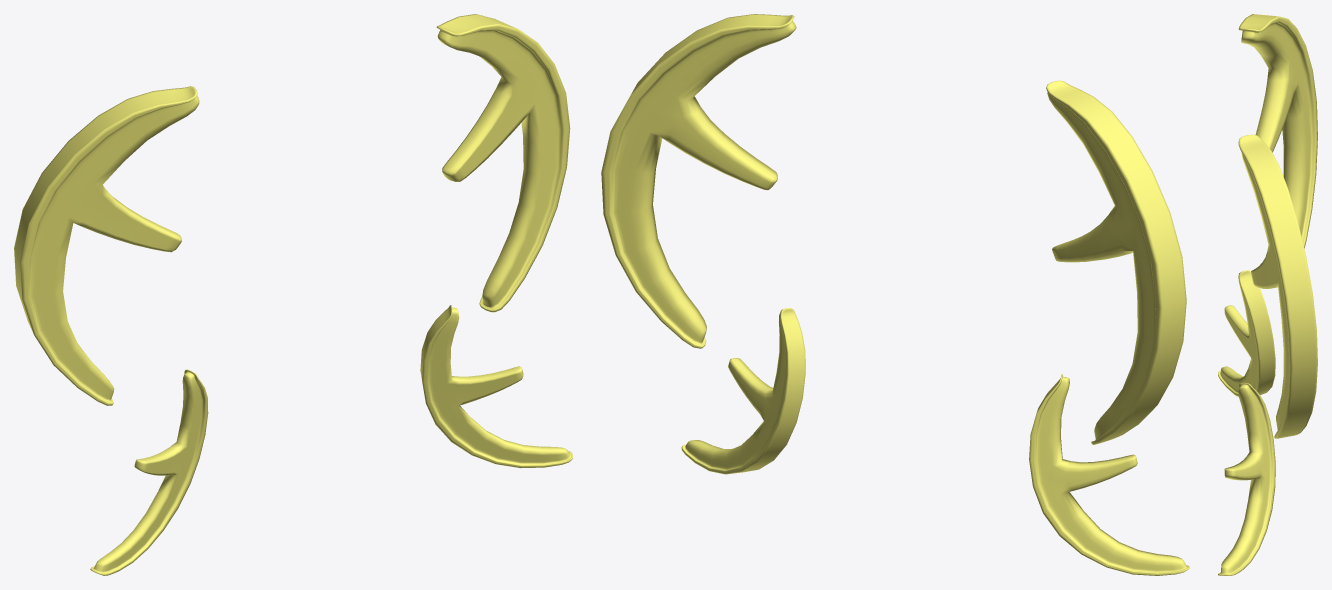
File: wings_low.fbx
3 views of the same model, side by side, from view 1: azimuth 30°, elevation 25°; view 2: azimuth 150°, elevation 25°; view 3: azimuth 270°, elevation 25° (orthographic). The views are drawn at different scales.
Visible parts, largest first — view 1: wings_low; view 2: wings_low; view 3: wings_low.
Part boxes in pixels (x1,y1,x2,y2): wings_low: [14, 14, 572, 575]; wings_low: [601, 14, 1189, 575]; wings_low: [1218, 14, 1317, 575].
Size of the model in its own units: 82.91 by 65.08 by 14.85.
